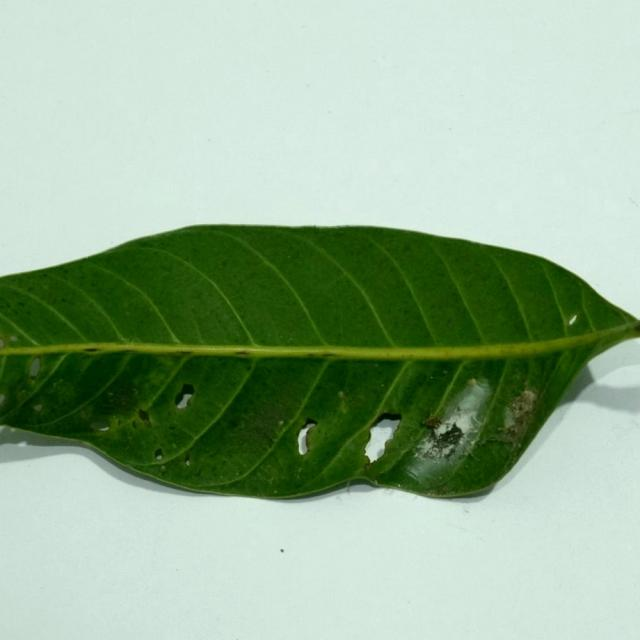Anthracnose: (362, 412, 405, 465), (162, 379, 205, 414), (296, 417, 319, 456), (28, 356, 42, 380), (137, 408, 151, 426), (90, 420, 110, 432), (153, 447, 167, 463), (568, 314, 578, 325), (184, 454, 192, 467), (9, 335, 19, 342)
Mango: (0, 226, 639, 504)
